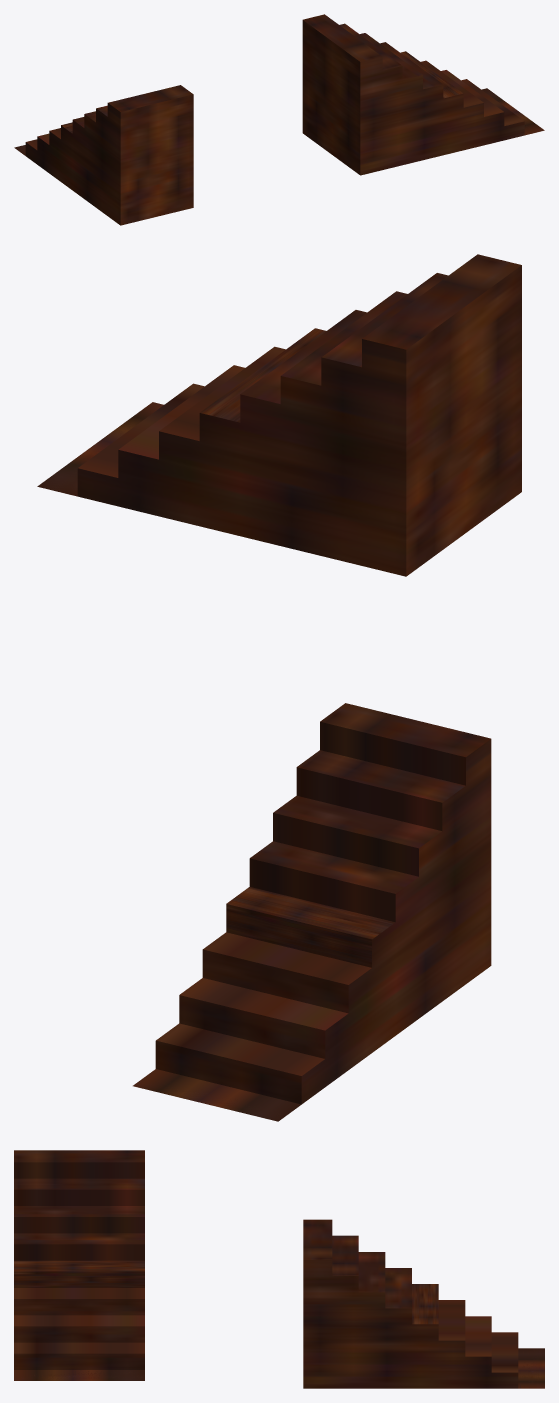
Rendered from Escalerafbx.fbx.
The picture shows the model from 3 angles, top to bottom: view 1: azimuth 30°, elevation 25°; view 2: azimuth 150°, elevation 25°; view 3: azimuth 270°, elevation 25°; orthographic projection. The views are drawn at different scales.
Parts seen in each view (by area): view 1: Escalera; view 2: Escalera; view 3: Escalera.
Part boxes in pixels (box(x1,y1,x2,y2)): Escalera: box(14, 14, 544, 225); Escalera: box(37, 254, 521, 1121); Escalera: box(14, 1150, 544, 1388).
Size of the model in its own units: 4476 by 3307 by 6113.
